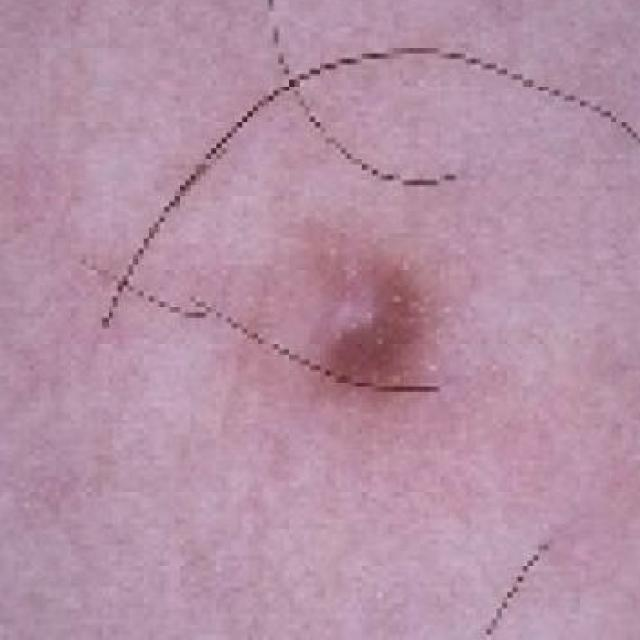DF: (184, 158, 559, 500)
